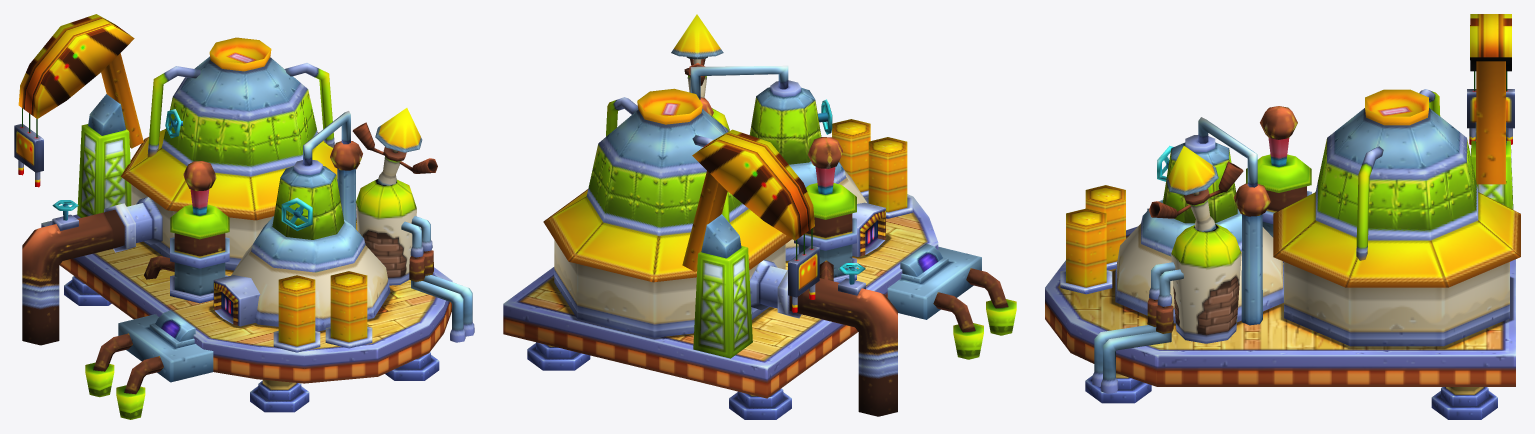
3 renders of one model, left to right at view 1: azimuth 30°, elevation 25°; view 2: azimuth 150°, elevation 25°; view 3: azimuth 270°, elevation 25°, orthographic. The views are drawn at different scales.
Visible parts, largest first — view 1: yk, yk_11_02, yk_11_01; view 2: yk, yk_11_02, yk_11_01; view 3: yk, yk_11_02, yk_11_01.
Boxes of the visible parts, x1=… form: yk: x1=22, y1=37, x2=474, y2=419; yk_11_02: x1=18, y1=14, x2=143, y2=217; yk_11_01: x1=14, y1=124, x2=43, y2=187; yk: x1=503, y1=14, x2=1016, y2=419; yk_11_02: x1=682, y1=129, x2=814, y2=358; yk_11_01: x1=788, y1=245, x2=819, y2=312; yk: x1=1045, y1=89, x2=1520, y2=419; yk_11_02: x1=1470, y1=14, x2=1513, y2=209; yk_11_01: x1=1467, y1=89, x2=1514, y2=144.
Bounding box in the file's own units: 170 × 128 × 191.
